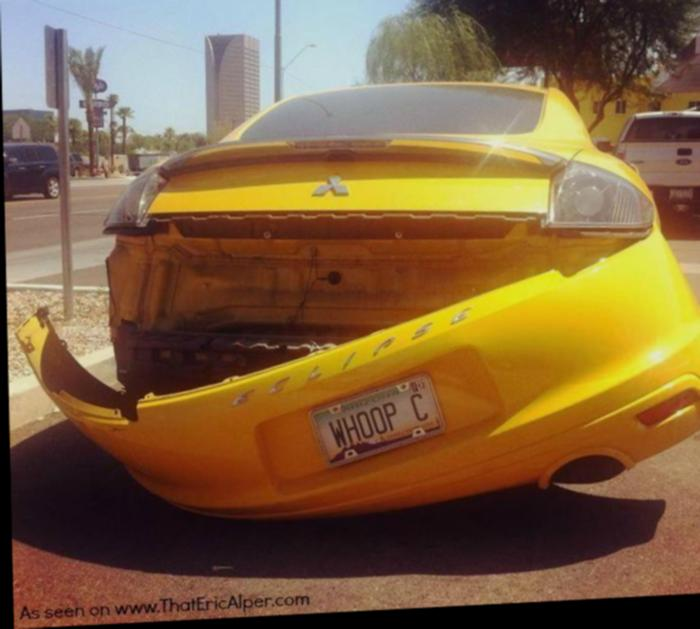License_Plate: (291, 365, 456, 474)
